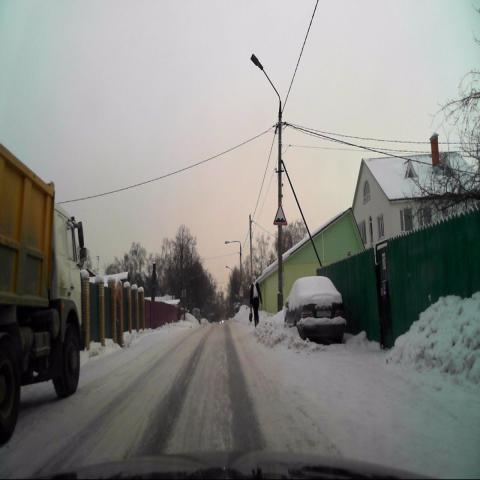1_16: (273, 203, 287, 225)
